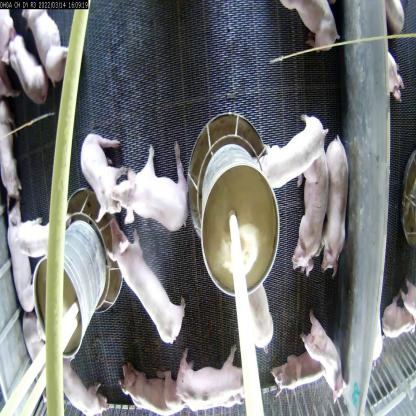Pig: (105, 224, 185, 348), (116, 140, 187, 232), (255, 111, 328, 198), (175, 347, 254, 415), (78, 128, 126, 226), (298, 313, 347, 401), (295, 143, 327, 274), (114, 360, 182, 415), (52, 349, 108, 415), (3, 199, 35, 312), (235, 260, 276, 348), (20, 1, 64, 79), (267, 348, 324, 408), (13, 206, 61, 269), (325, 137, 345, 278), (9, 33, 46, 108), (0, 92, 23, 194)
